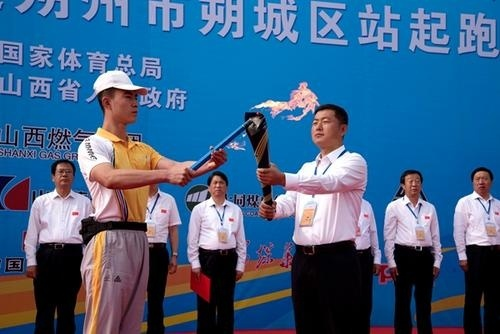fire: (255, 79, 320, 119)
